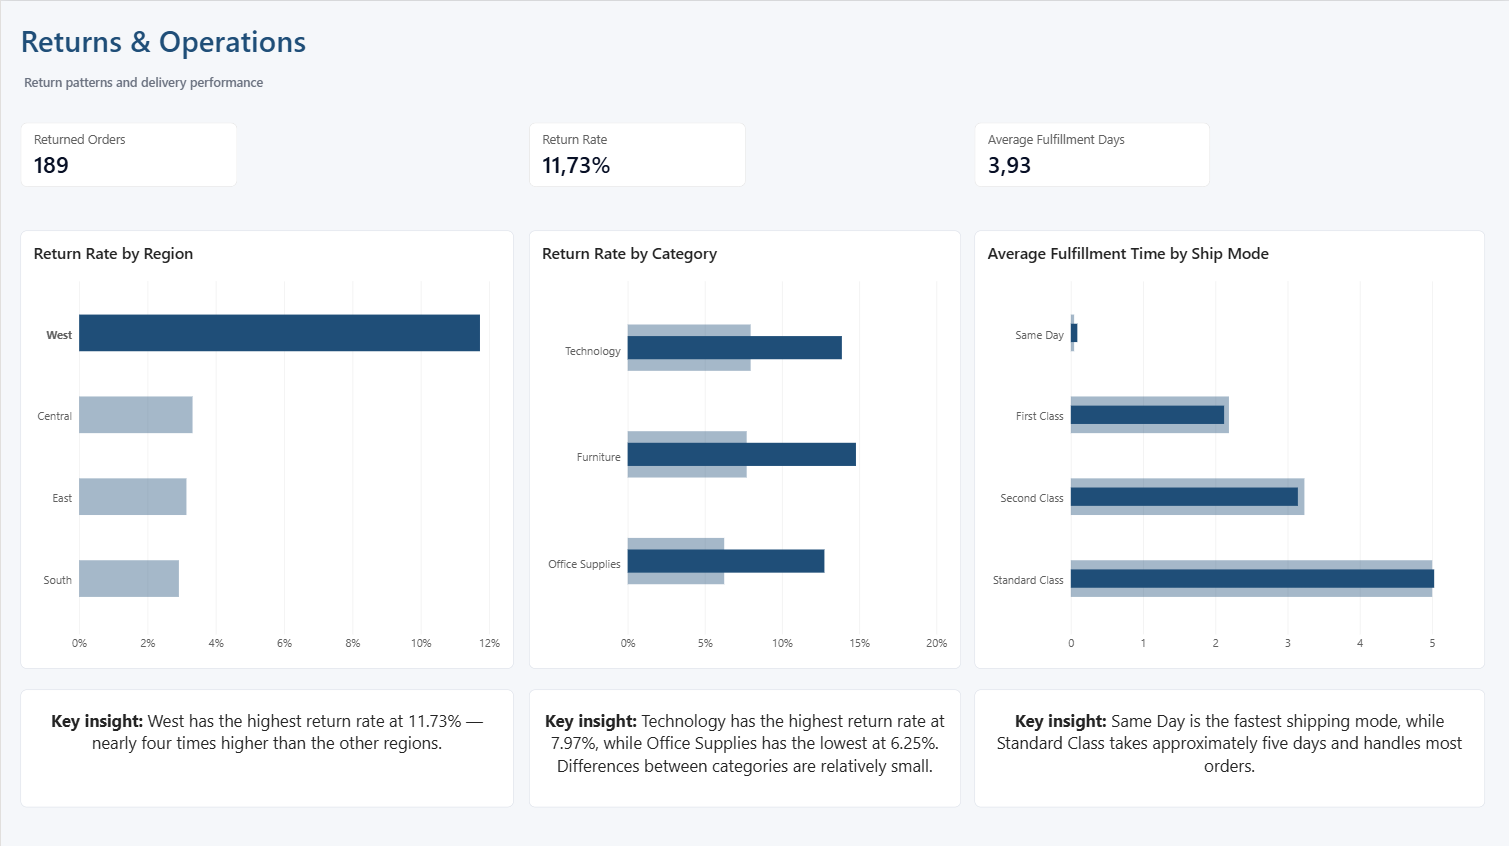

The dashboard page shown, as its layout file describes it:
{"tool":"powerbi","page":{"name":"Returns & Operations","canvas":[1920,1080],"ordinal":2},"visuals":[{"type":"cardVisual","fields":{"Data":["_Measures.Returned Orders"]},"box":[24,154,276,82],"z":0},{"type":"cardVisual","fields":{"Data":["_Measures.Return Rate"]},"box":[672,154,276,82],"z":1000},{"type":"cardVisual","fields":{"Data":["_Measures.Average Fulfillment Days"]},"box":[1240,154,300,82],"z":2000},{"type":"clusteredBarChart","title":"Return Rate by Category","fields":{"Category":["orders.category"],"Y":["_Measures.Return Rate"]},"box":[672,292,550,558],"z":3000},{"type":"clusteredBarChart","title":"Return Rate by Region","fields":{"Category":["people.region"],"Y":["_Measures.Return Rate"]},"box":[24,292,628,558],"z":4000},{"type":"clusteredBarChart","title":"Average Fulfillment Time by Ship Mode","fields":{"Category":["orders.ship_mode"],"Y":["_Measures.Average Fulfillment Days"]},"box":[1240,292,650,558],"z":5000},{"type":"textbox","box":[24,24,550,106],"z":6000},{"type":"textbox","box":[24,876,628,150],"z":8000},{"type":"textbox","box":[672,876,550,150],"z":9000},{"type":"textbox","box":[1240,876,650,150],"z":10000}]}

Visuals, with their boxes in screenshot pixels (x1, y1, x2, y2), scaled from the page's 1920x1080 canvas onto the 1509x846 screenshot:
cardVisual - _Measures.Returned Orders: bbox(19, 121, 236, 185)
cardVisual - _Measures.Return Rate: bbox(528, 121, 745, 185)
cardVisual - _Measures.Average Fulfillment Days: bbox(975, 121, 1210, 185)
"Return Rate by Category" clusteredBarChart: bbox(528, 229, 960, 666)
"Return Rate by Region" clusteredBarChart: bbox(19, 229, 512, 666)
"Average Fulfillment Time by Ship Mode" clusteredBarChart: bbox(975, 229, 1485, 666)
textbox: bbox(19, 19, 451, 102)
textbox: bbox(19, 686, 512, 804)
textbox: bbox(528, 686, 960, 804)
textbox: bbox(975, 686, 1485, 804)
